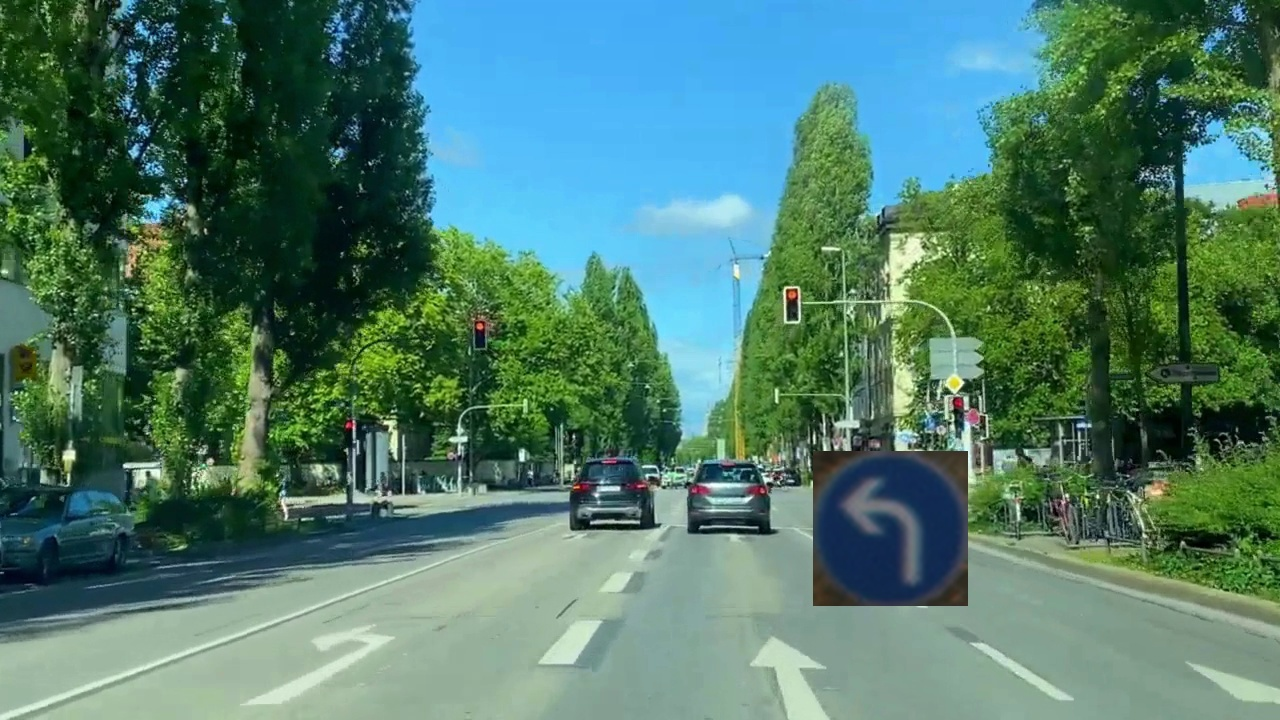Turn left: (813, 451, 968, 606)
